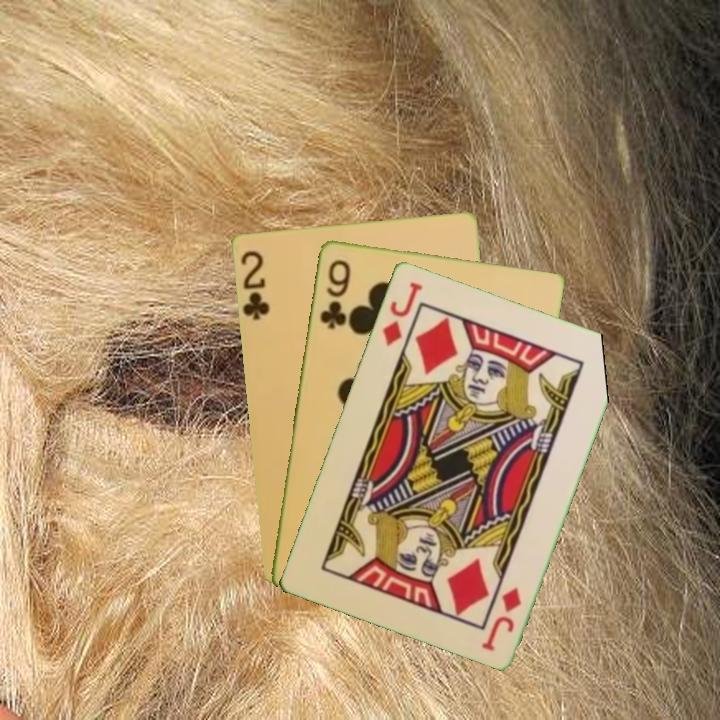2c: (236, 246, 272, 323)
9c: (316, 255, 353, 332)
Jd: (477, 582, 525, 654), (378, 278, 425, 349)
